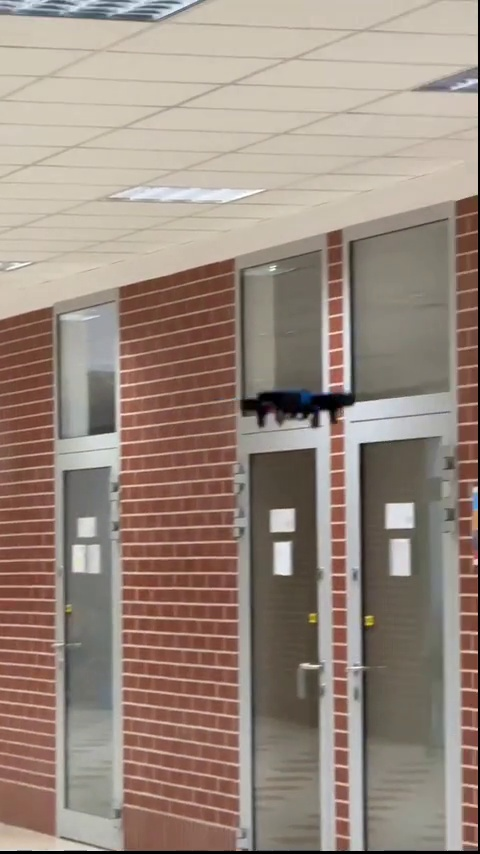drone: (239, 386, 358, 426)
